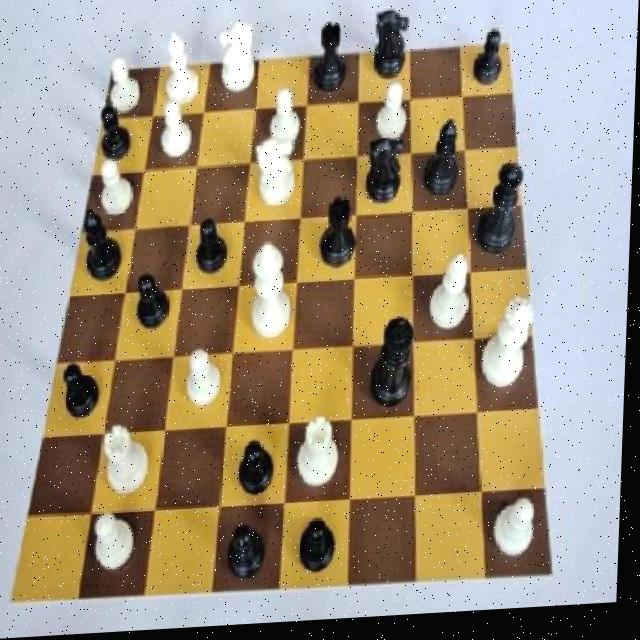bishop: (418, 112, 472, 211), (77, 210, 128, 297)
black-bishop: (367, 318, 425, 417)
black-king: (364, 0, 417, 96), (364, 134, 410, 215)
black-knight: (221, 524, 275, 594), (128, 267, 173, 343), (296, 511, 343, 582), (231, 440, 282, 505), (193, 215, 236, 289), (98, 99, 139, 174), (469, 27, 513, 96), (63, 358, 106, 428)
black-pawn: (481, 161, 535, 261)
black-queen: (313, 198, 363, 282), (308, 22, 356, 105)
black-rook: (424, 253, 475, 341), (160, 24, 210, 112)
white-bishop: (245, 238, 299, 357)
white-king: (212, 15, 266, 103), (252, 137, 306, 215)
white-knight: (490, 497, 544, 575), (93, 508, 143, 584), (369, 82, 415, 153), (155, 98, 201, 167), (104, 53, 147, 126), (183, 344, 227, 415), (267, 84, 307, 157), (95, 157, 136, 220)
white-pawn: (478, 295, 539, 409)
white-queen: (98, 418, 159, 502), (296, 409, 348, 494)
